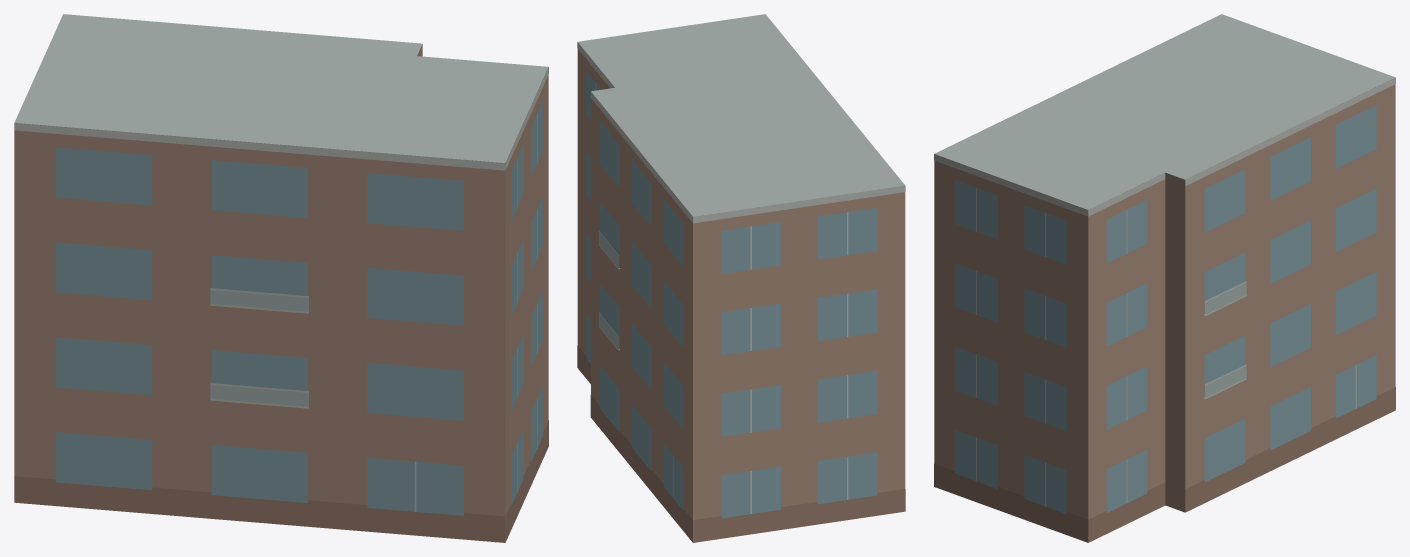
The model's file is survey-upis-32821119.glb.
3 renders of one model, left to right at view 1: azimuth 30°, elevation 25°; view 2: azimuth 150°, elevation 25°; view 3: azimuth 270°, elevation 25°, orthographic. The views are drawn at different scales.
Parts seen in each view (by area): view 1: survey-upis-32821119.tmp; view 2: survey-upis-32821119.tmp; view 3: survey-upis-32821119.tmp.
Boxes of the visible parts, bbox=[...] form: survey-upis-32821119.tmp: bbox=[14, 14, 548, 542]; survey-upis-32821119.tmp: bbox=[577, 14, 905, 542]; survey-upis-32821119.tmp: bbox=[934, 14, 1395, 542].
Size of the model in its own units: 15.41 by 12.2 by 15.34.
